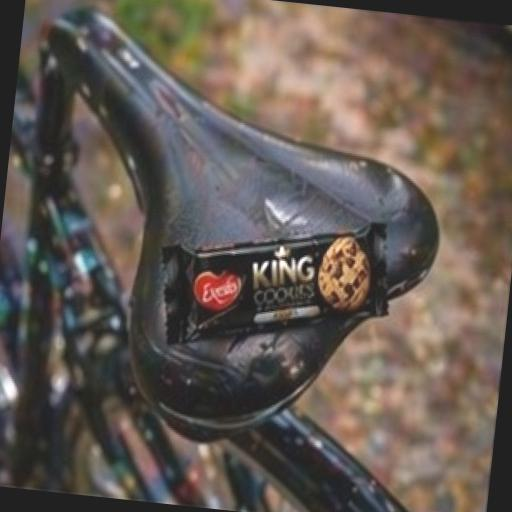king_cooking: (112, 154, 447, 420)
